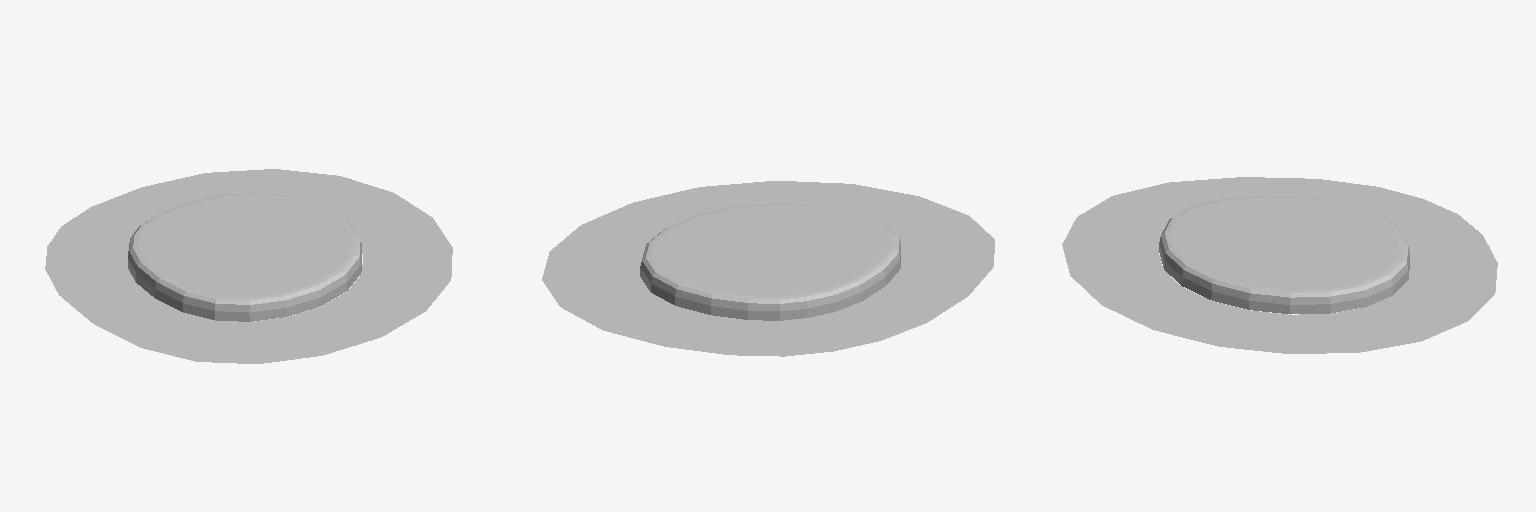
3 views of the same model, side by side, from view 1: azimuth 30°, elevation 25°; view 2: azimuth 150°, elevation 25°; view 3: azimuth 270°, elevation 25° (orthographic).
Visible parts, largest first — view 1: 1_foam_Curve.027, 1_Curve.028; view 2: 1_foam_Curve.027, 1_Curve.028; view 3: 1_foam_Curve.027, 1_Curve.028.
Part boxes in pixels (left/top/right/bottom): 1_foam_Curve.027: left=45, top=169, right=452, bottom=363; 1_Curve.028: left=128, top=193, right=361, bottom=321; 1_foam_Curve.027: left=542, top=181, right=994, bottom=356; 1_Curve.028: left=640, top=203, right=900, bottom=320; 1_foam_Curve.027: left=1062, top=177, right=1497, bottom=353; 1_Curve.028: left=1159, top=196, right=1409, bottom=314.
Size of the model in its own units: 18.99 by 0.9671 by 19.71.